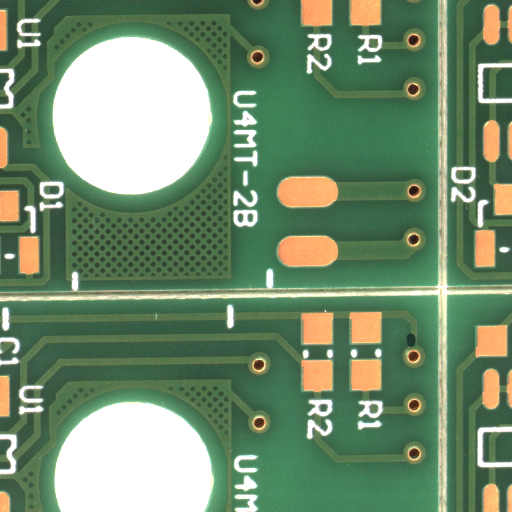Mouse_bite: (410, 340, 418, 355)
